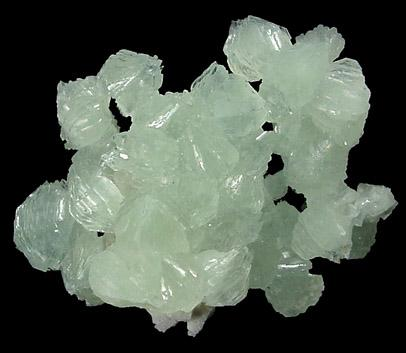prehnite: (14, 53, 363, 334), (224, 16, 371, 200)
